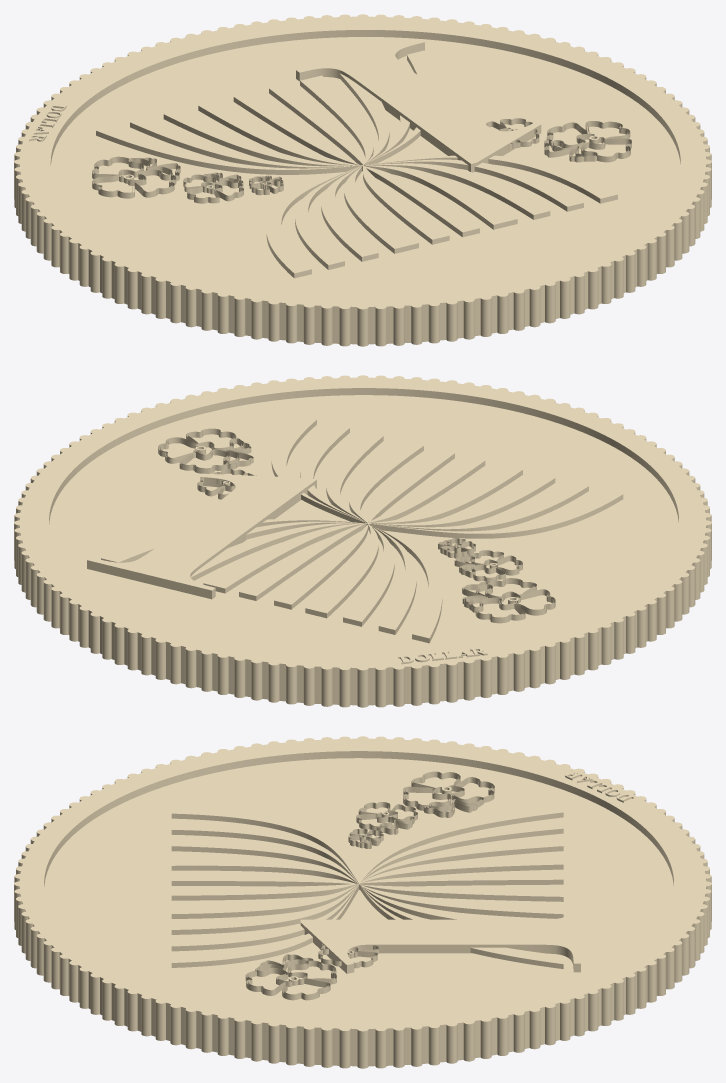
Rendered from coinonly.glb.
3 renders of one model, top to bottom at view 1: azimuth 30°, elevation 25°; view 2: azimuth 150°, elevation 25°; view 3: azimuth 270°, elevation 25°, orthographic.
Visible parts, largest first — view 1: empty_168, empty_90, empty_192, empty_180, empty_190, empty_191, empty_181, empty_193, empty_183, empty_182, empty_185, empty_175 (+10 smaller); view 2: empty_168, empty_90, empty_187, empty_175, empty_185, empty_186, empty_188, empty_190, empty_180, empty_179, empty_189, empty_194 (+10 smaller); view 3: empty_168, empty_90, empty_190, empty_185, empty_180, empty_175, empty_194, empty_191, empty_186, empty_181, empty_187, empty_192 (+10 smaller).
Boxes of the visible parts, left/top/right/bottom form: empty_168: left=14, top=14, right=711, bottom=346; empty_90: left=296, top=39, right=541, bottom=172; empty_192: left=96, top=126, right=359, bottom=174; empty_180: left=364, top=165, right=517, bottom=229; empty_190: left=198, top=100, right=362, bottom=165; empty_191: left=163, top=109, right=357, bottom=166; empty_181: left=363, top=163, right=550, bottom=219; empty_193: left=130, top=118, right=358, bottom=168; empty_183: left=363, top=159, right=583, bottom=211; empty_182: left=366, top=155, right=617, bottom=203; empty_185: left=344, top=166, right=418, bottom=253; empty_175: left=300, top=75, right=373, bottom=165; empty_168: left=14, top=375, right=711, bottom=707; empty_90: left=87, top=473, right=316, bottom=599; empty_187: left=366, top=490, right=623, bottom=538; empty_175: left=203, top=523, right=366, bottom=593; empty_185: left=369, top=464, right=522, bottom=523; empty_186: left=368, top=474, right=555, bottom=527; empty_188: left=369, top=482, right=588, bottom=531; empty_190: left=305, top=524, right=378, bottom=618; empty_180: left=349, top=440, right=423, bottom=522; empty_179: left=239, top=523, right=365, bottom=600; empty_189: left=367, top=456, right=485, bottom=523; empty_194: left=274, top=524, right=368, bottom=609; empty_168: left=14, top=736, right=711, bottom=1068; empty_90: left=300, top=902, right=580, bottom=973; empty_190: left=359, top=854, right=563, bottom=884; empty_185: left=171, top=854, right=357, bottom=883; empty_180: left=171, top=884, right=357, bottom=918; empty_175: left=358, top=884, right=563, bottom=918; empty_194: left=360, top=871, right=563, bottom=886; empty_191: left=362, top=837, right=563, bottom=881; empty_186: left=171, top=838, right=358, bottom=883; empty_181: left=171, top=884, right=358, bottom=934; empty_187: left=171, top=805, right=358, bottom=882; empty_192: left=361, top=804, right=563, bottom=881.
Size of the model in its own units: 25.42 by 1.95 by 25.42.
